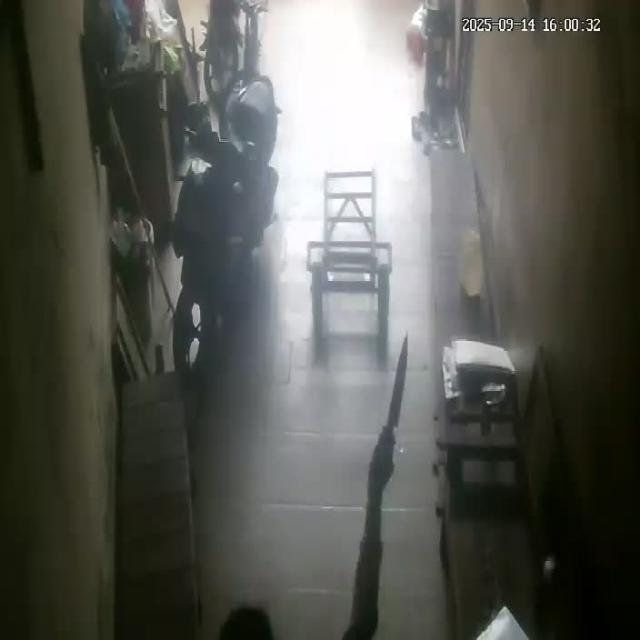senjata_tajam: (383, 329, 410, 432)
